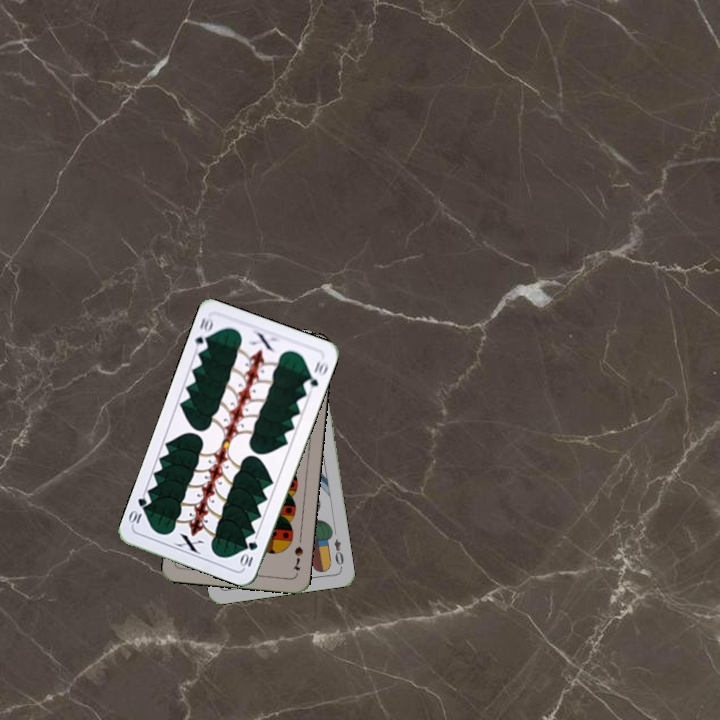EO: (330, 535, 346, 571)
G10: (191, 312, 216, 354), (237, 537, 260, 570)
S7: (289, 542, 305, 573)
